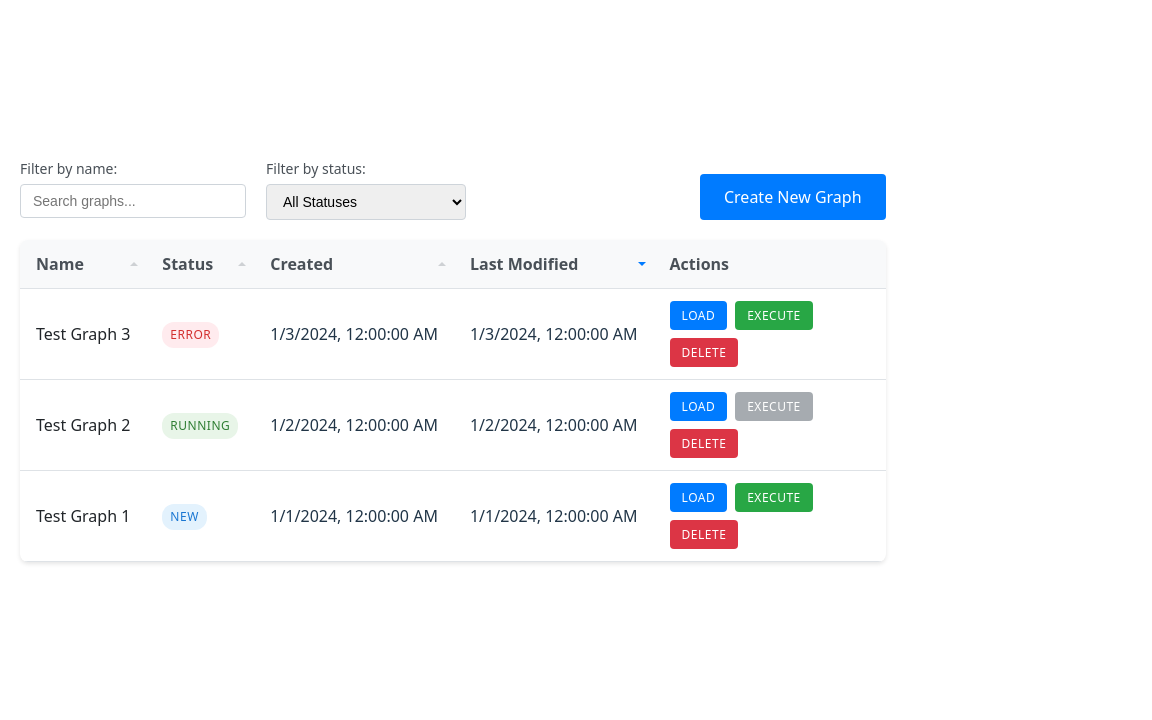
Test case: GraphList › should cancel delete when Cancel is clicked
# Click delete button
Click the button "Delete" in the row of "Test Graph 3" at (704, 352), box [670,338,738,367]
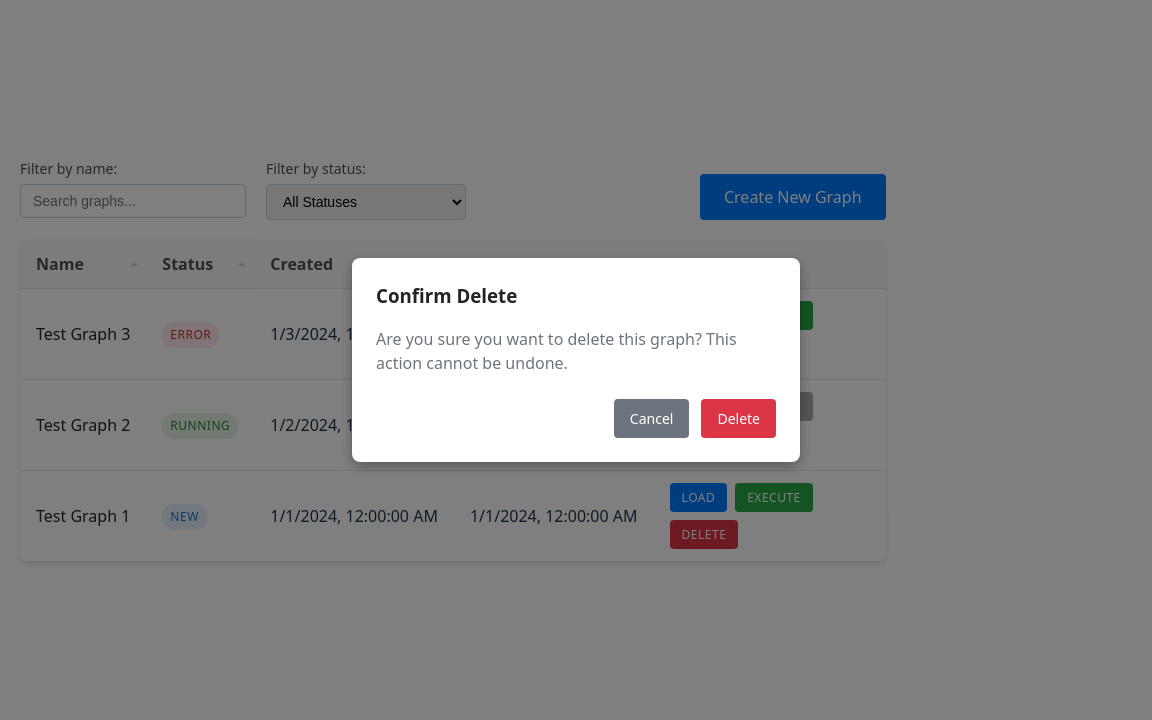
# Cancel deletion
Click the button "Cancel" at (652, 418), box [614,398,689,438]
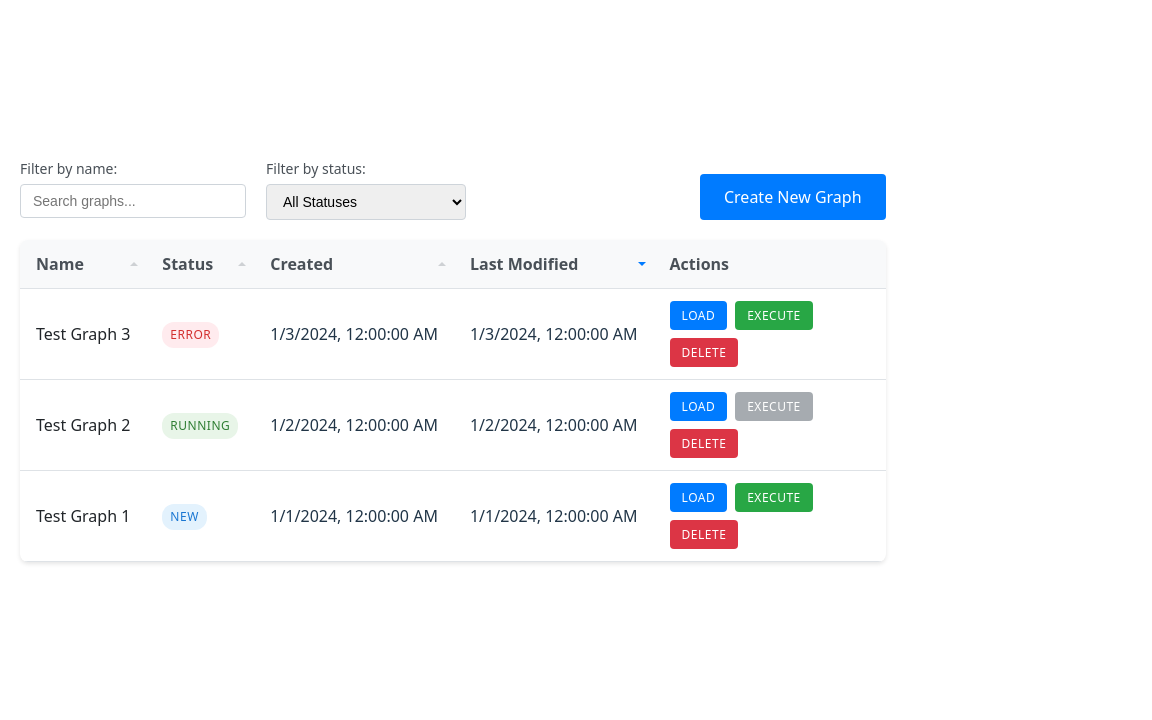
Expected: the heading "Confirm Delete" is gone
